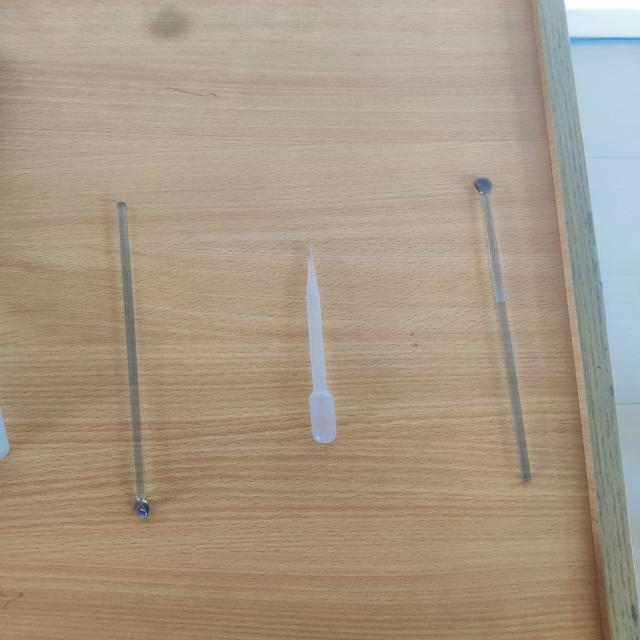Glass_Rod: (457, 146, 587, 510), (84, 162, 188, 555)
Pipette: (271, 226, 379, 467)
